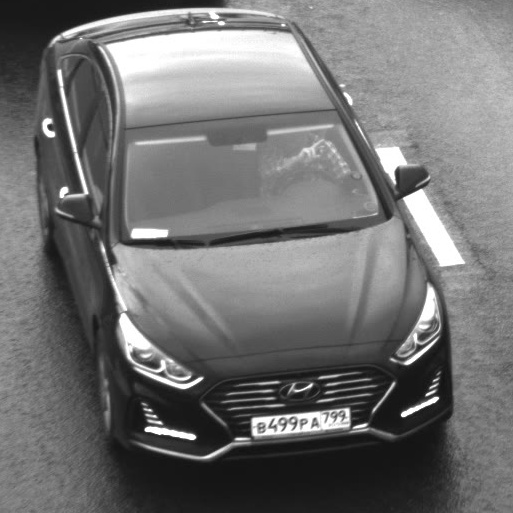plate: (238, 396, 359, 445)
